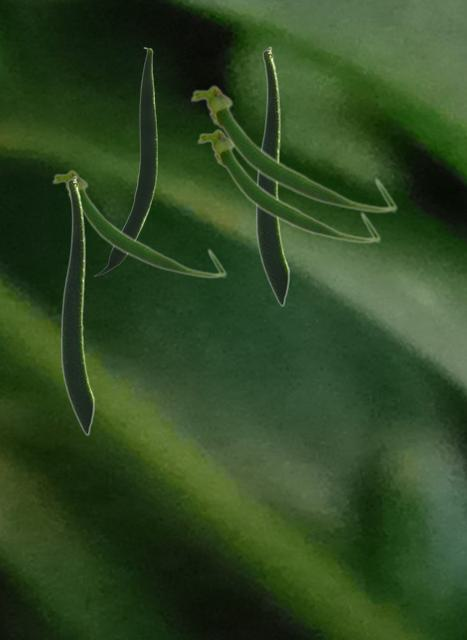french_bean: (189, 83, 397, 213), (196, 128, 380, 243), (51, 168, 226, 278), (93, 47, 156, 275), (255, 46, 289, 306), (60, 175, 94, 435)
